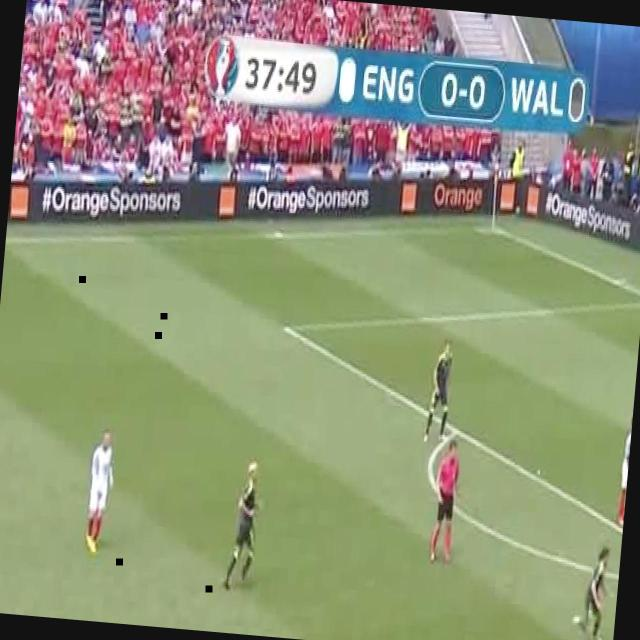player-white: (221, 463, 261, 598), (429, 434, 468, 564), (80, 426, 118, 556), (574, 548, 614, 640), (429, 338, 459, 446), (611, 412, 633, 525), (613, 433, 631, 538)
